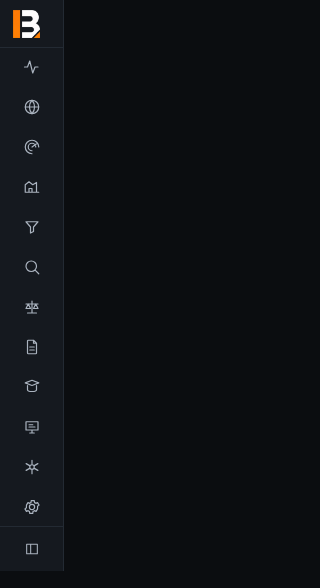
Test case: NavRail › toggles expansion and reports its state
Step 1. Click the button named "expand navigation" → (32, 549), box left=18, top=535, right=46, bottom=563
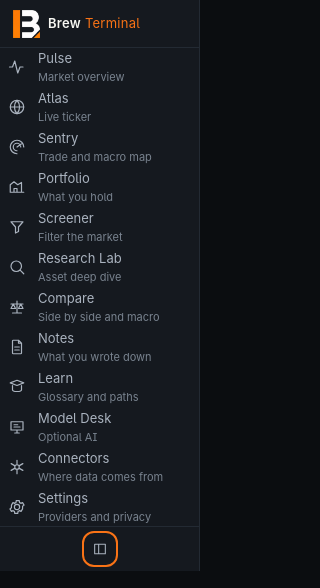
Check: the button named "collapse navigation" is expanded, box left=86, top=535, right=114, bottom=563
